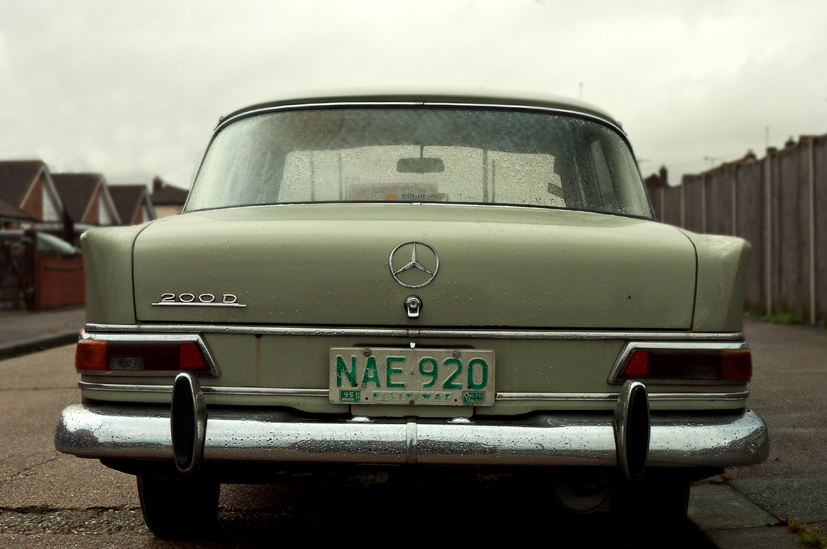license plate: (325, 344, 497, 409)
